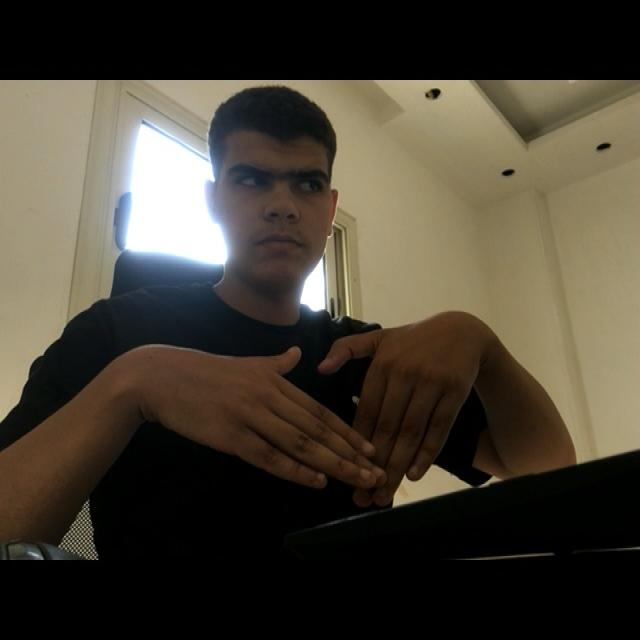IloveYou: (114, 297, 526, 518)
